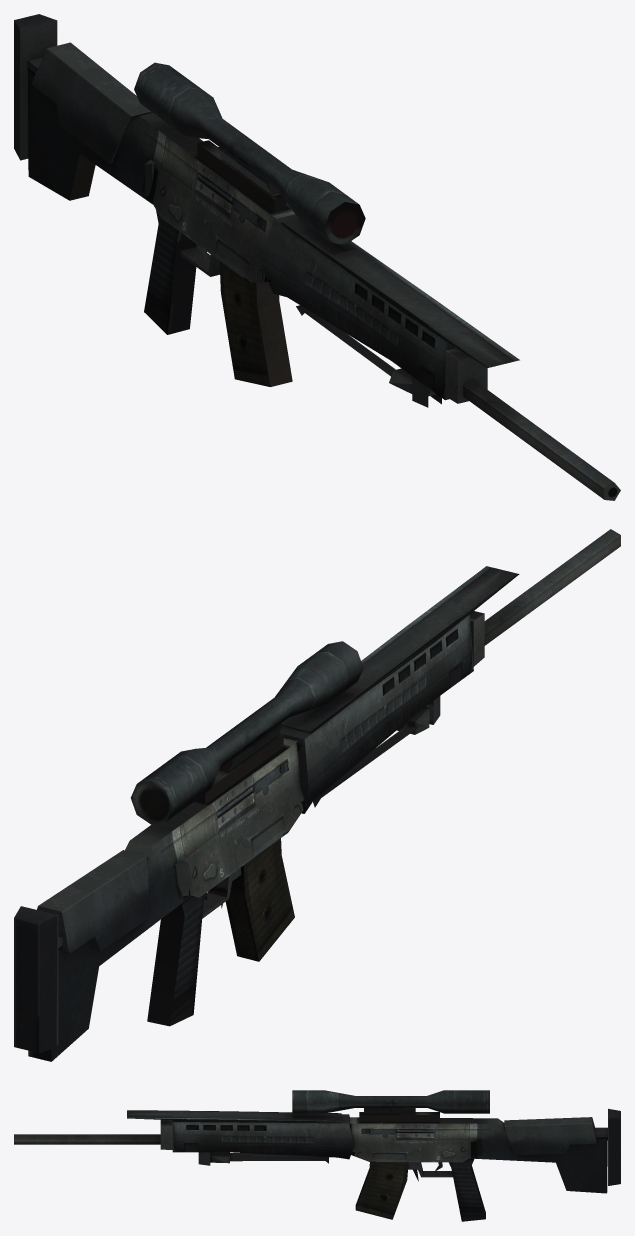
3 views of the same model, one above another, from view 1: azimuth 30°, elevation 25°; view 2: azimuth 150°, elevation 25°; view 3: azimuth 270°, elevation 25° (orthographic). The views are drawn at different scales.
Parts seen in each view (by area): view 1: SMDImporter.Mesh.w_snip_sg550; view 2: SMDImporter.Mesh.w_snip_sg550; view 3: SMDImporter.Mesh.w_snip_sg550.
Boxes of the visible parts, x1,y1,x2,y2 form: SMDImporter.Mesh.w_snip_sg550: (14,14,620,500); SMDImporter.Mesh.w_snip_sg550: (14,529,620,1061); SMDImporter.Mesh.w_snip_sg550: (14,1090,620,1221).
Size of the model in its own units: 4.99 by 24.2 by 103.
